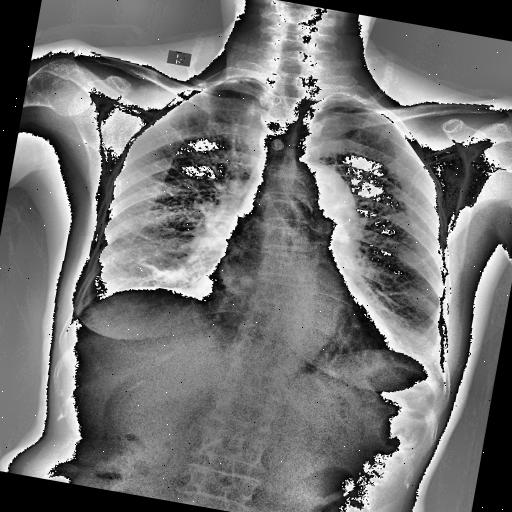0- Aortic enlargement: (250, 156, 362, 274), (290, 159, 370, 255), (282, 158, 368, 243)
11- Pleural thickening: (220, 74, 260, 88)
3- Cardiomegaly: (182, 262, 406, 353), (190, 256, 404, 351)
